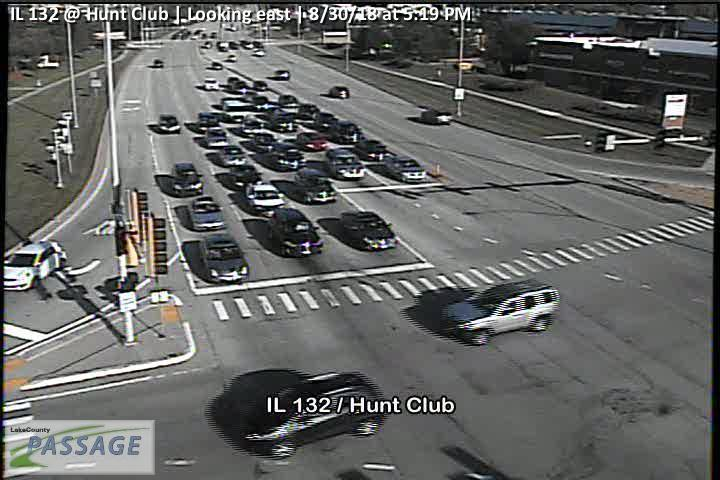SUV: (442, 280, 561, 347)
Sedan: (222, 370, 386, 459), (1, 239, 69, 292), (267, 208, 324, 259), (198, 231, 249, 282), (340, 208, 397, 253), (294, 165, 337, 206), (185, 195, 227, 231), (323, 146, 365, 180), (385, 155, 429, 185), (263, 141, 307, 171), (169, 161, 206, 196), (244, 181, 285, 212), (228, 164, 264, 190), (355, 137, 392, 162), (332, 121, 366, 145), (218, 144, 249, 169), (295, 129, 329, 149), (419, 109, 454, 125), (203, 126, 228, 148), (253, 130, 276, 153), (315, 108, 338, 129), (297, 103, 322, 122), (156, 114, 181, 132), (270, 116, 298, 132), (328, 85, 351, 99), (278, 93, 300, 107)
